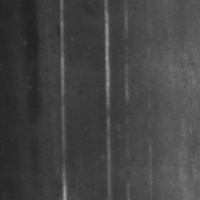scratches: (55, 1, 72, 199), (101, 1, 116, 198)
